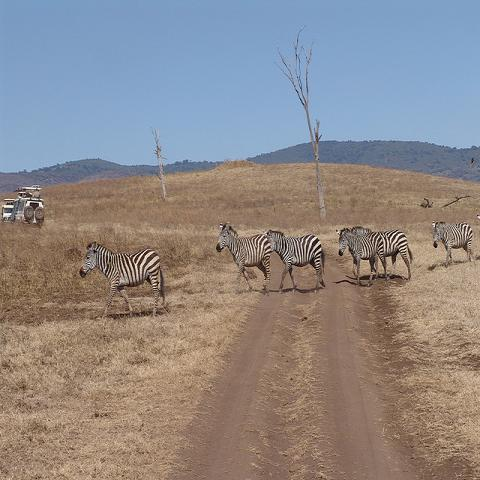car: (14, 199, 44, 224), (2, 205, 14, 222)
